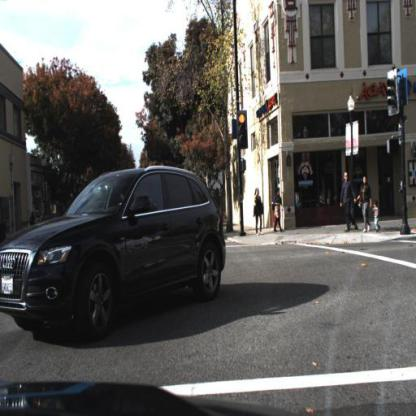car: (1, 161, 228, 343)
pedestrian: (341, 171, 360, 233), (356, 173, 374, 233), (361, 164, 372, 234), (272, 187, 284, 233), (254, 188, 265, 236), (369, 201, 384, 233), (255, 187, 264, 236), (275, 186, 284, 230)
trafficLight: (238, 113, 249, 153)
